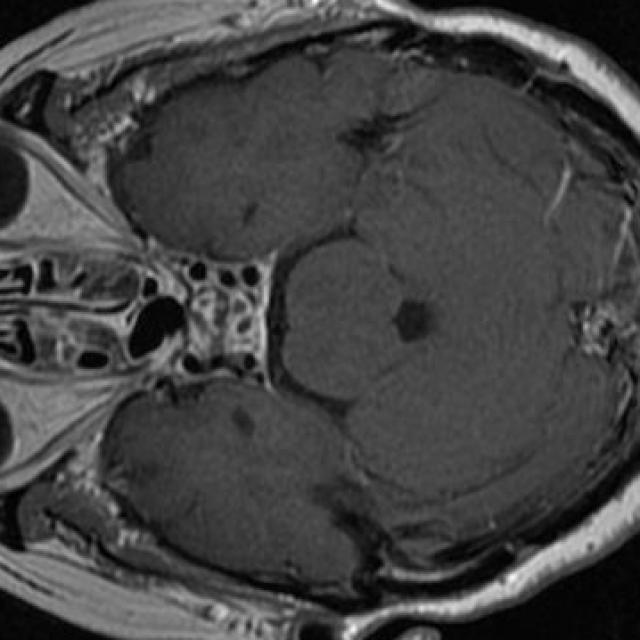pituitary: (187, 289, 251, 360)
